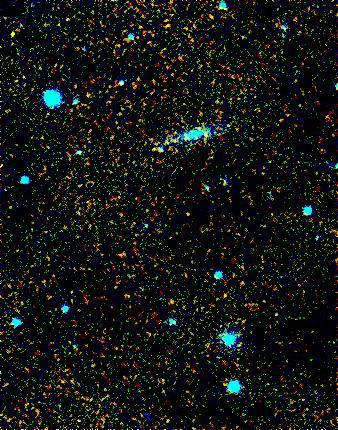star: (136, 134, 166, 164)
